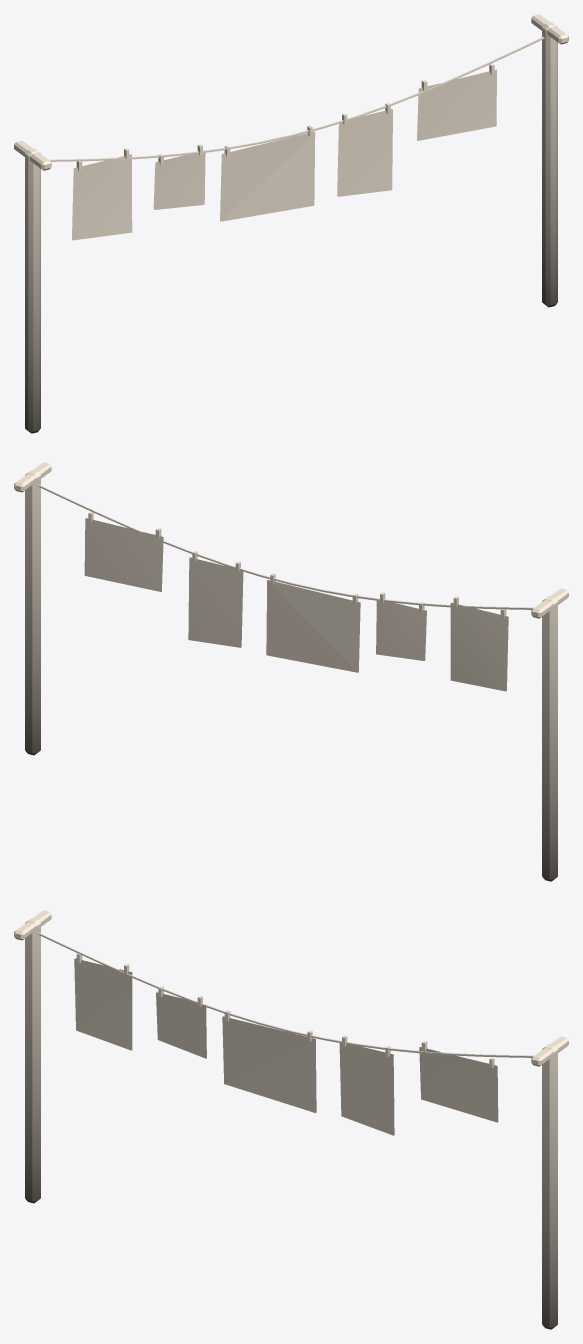
The model's file is SM_VK_Prop_Laundry.fbx.
The picture shows the model from 3 angles, top to bottom: view 1: azimuth 30°, elevation 25°; view 2: azimuth 150°, elevation 25°; view 3: azimuth 330°, elevation 25°; orthographic projection.
Visible parts, largest first — view 1: SM_VK_Prop_Laundry.001; view 2: SM_VK_Prop_Laundry.001; view 3: SM_VK_Prop_Laundry.001.
Part boxes in pixels (box(x1,y1,x2,y2)): SM_VK_Prop_Laundry.001: box(14, 14, 568, 433); SM_VK_Prop_Laundry.001: box(14, 462, 568, 881); SM_VK_Prop_Laundry.001: box(14, 910, 568, 1329).
Bounding box in the file's own units: 5.12 × 2.6 × 0.5.
